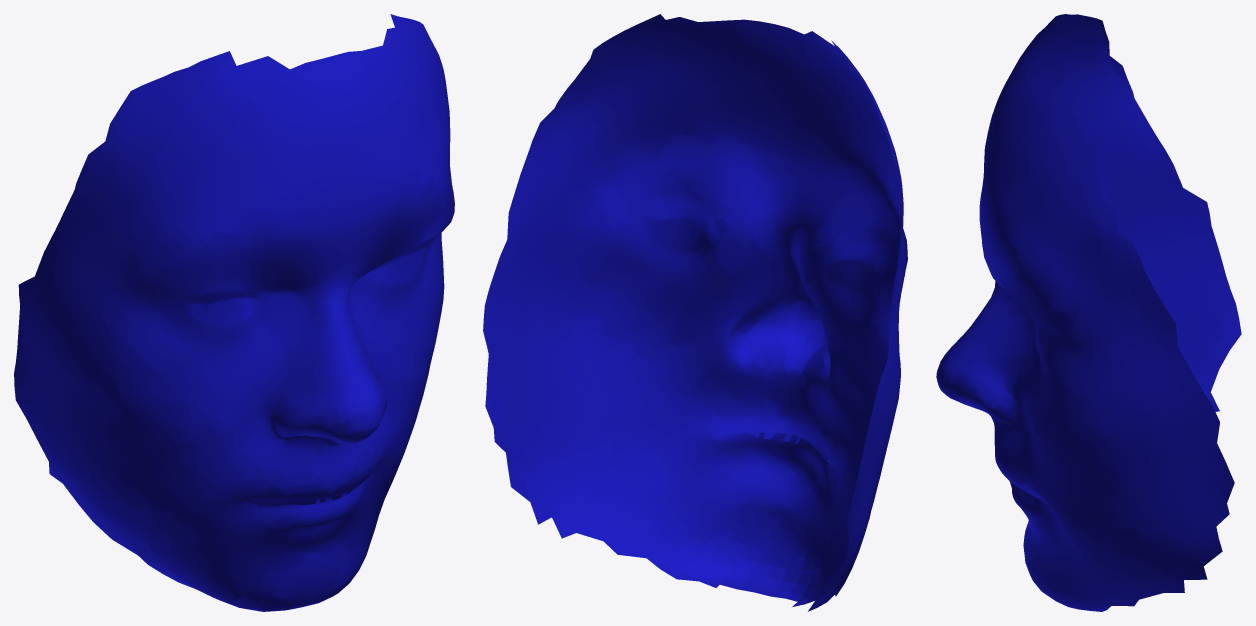
The model's file is threhold15.obj.
3 views of the same model, side by side, from view 1: azimuth 30°, elevation 25°; view 2: azimuth 150°, elevation 25°; view 3: azimuth 270°, elevation 25° (orthographic). The views are drawn at different scales.
Bounding box in the file's own units: 148 × 203 × 103.
